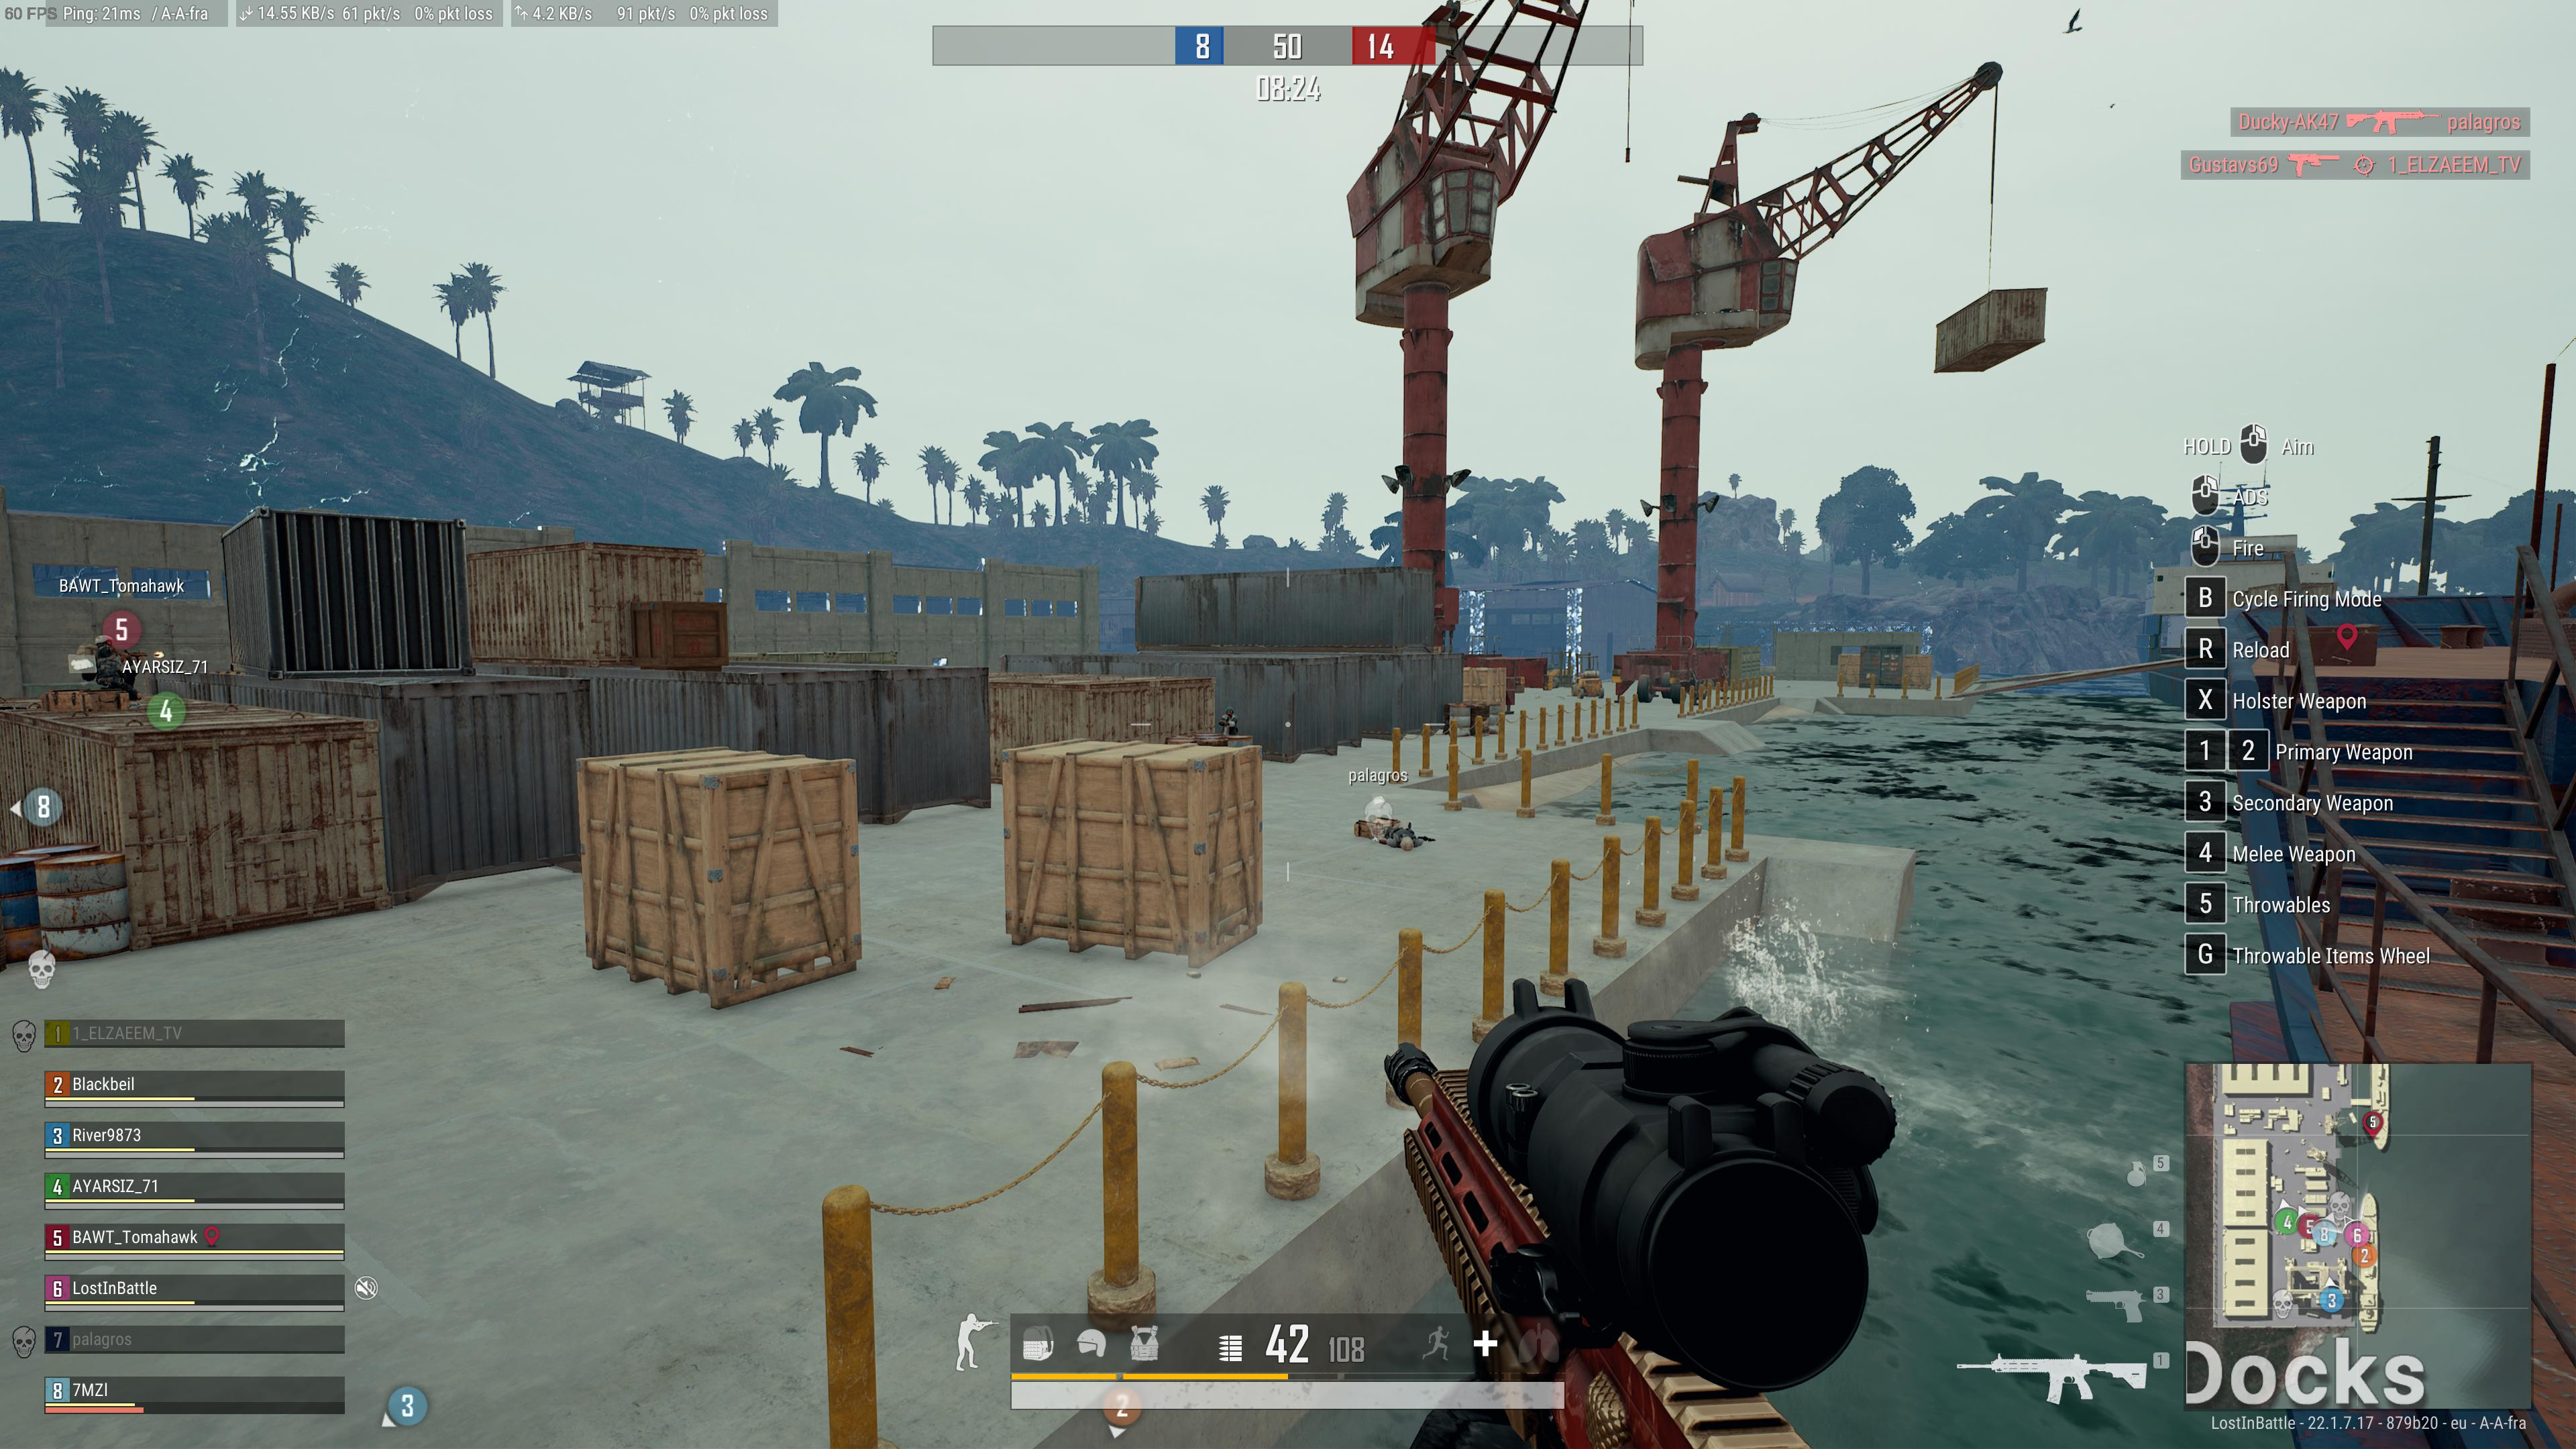enemy: (1217, 706, 1238, 734)
enemy_head: (1224, 706, 1233, 717)
friendly: (73, 626, 150, 709)
